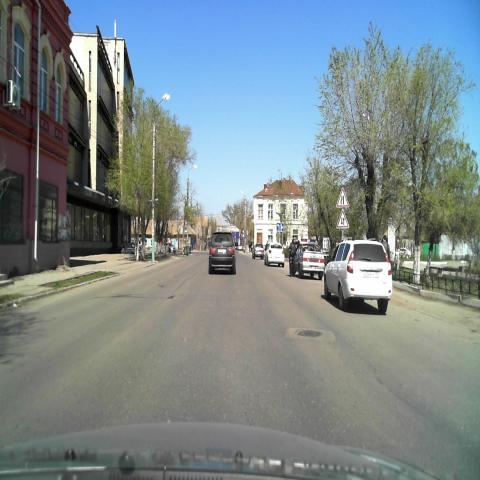1_20_3: (335, 188, 350, 208)
1_21: (336, 208, 350, 228)
